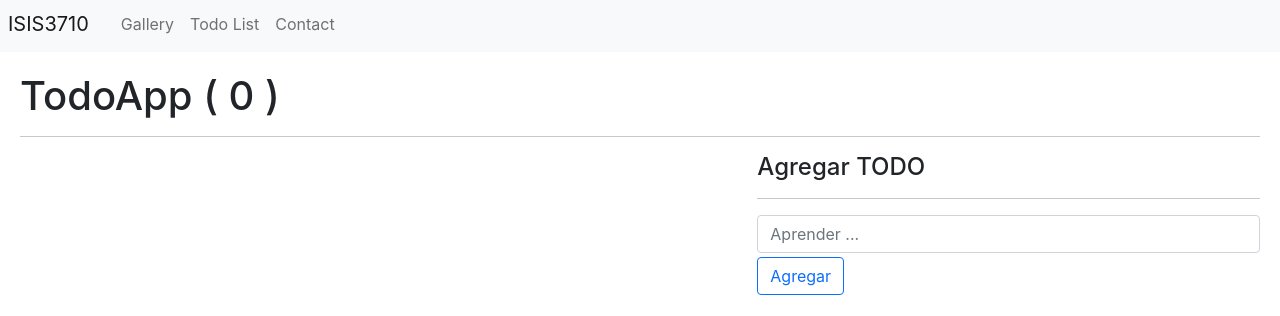
Test: TODOS page › should add a new TODO
Type "new TODO" into the field with placeholder "Aprender ...".
click(1009, 234); type("new TODO")  # box [757,215,1260,253]
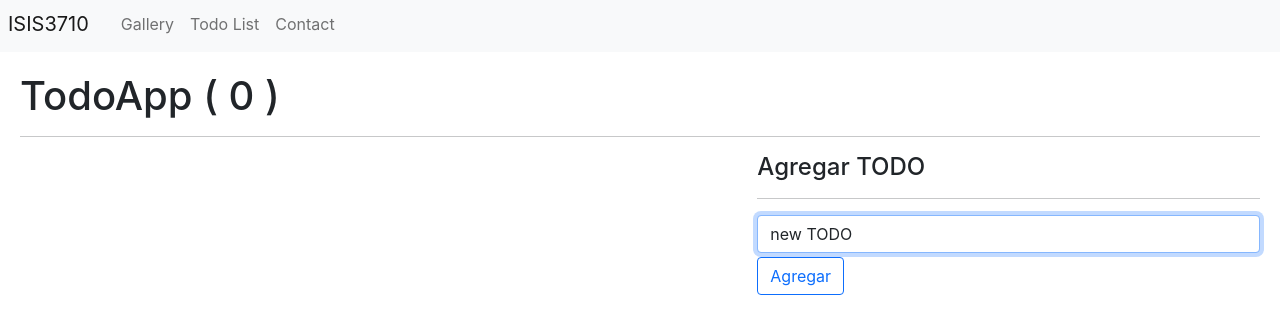
Click the submit button.
click(801, 276)  # box [757,257,844,295]
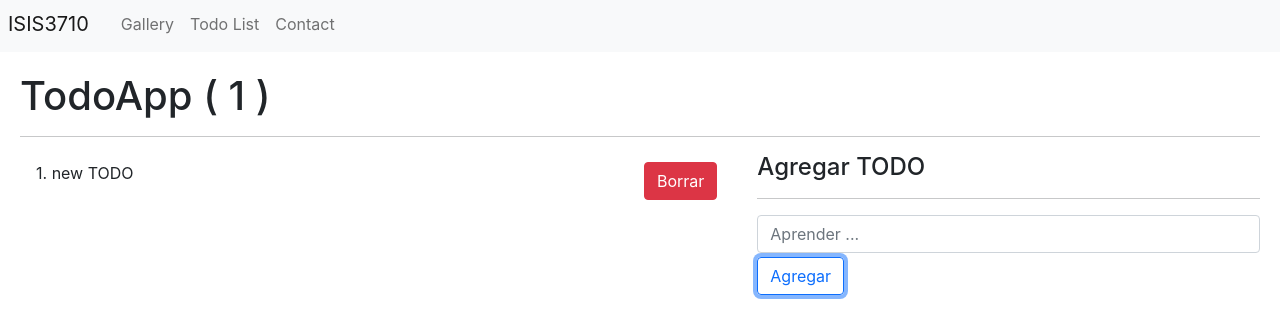
Now the text "1. new TODO" is shown, box [36,161,134,185]
